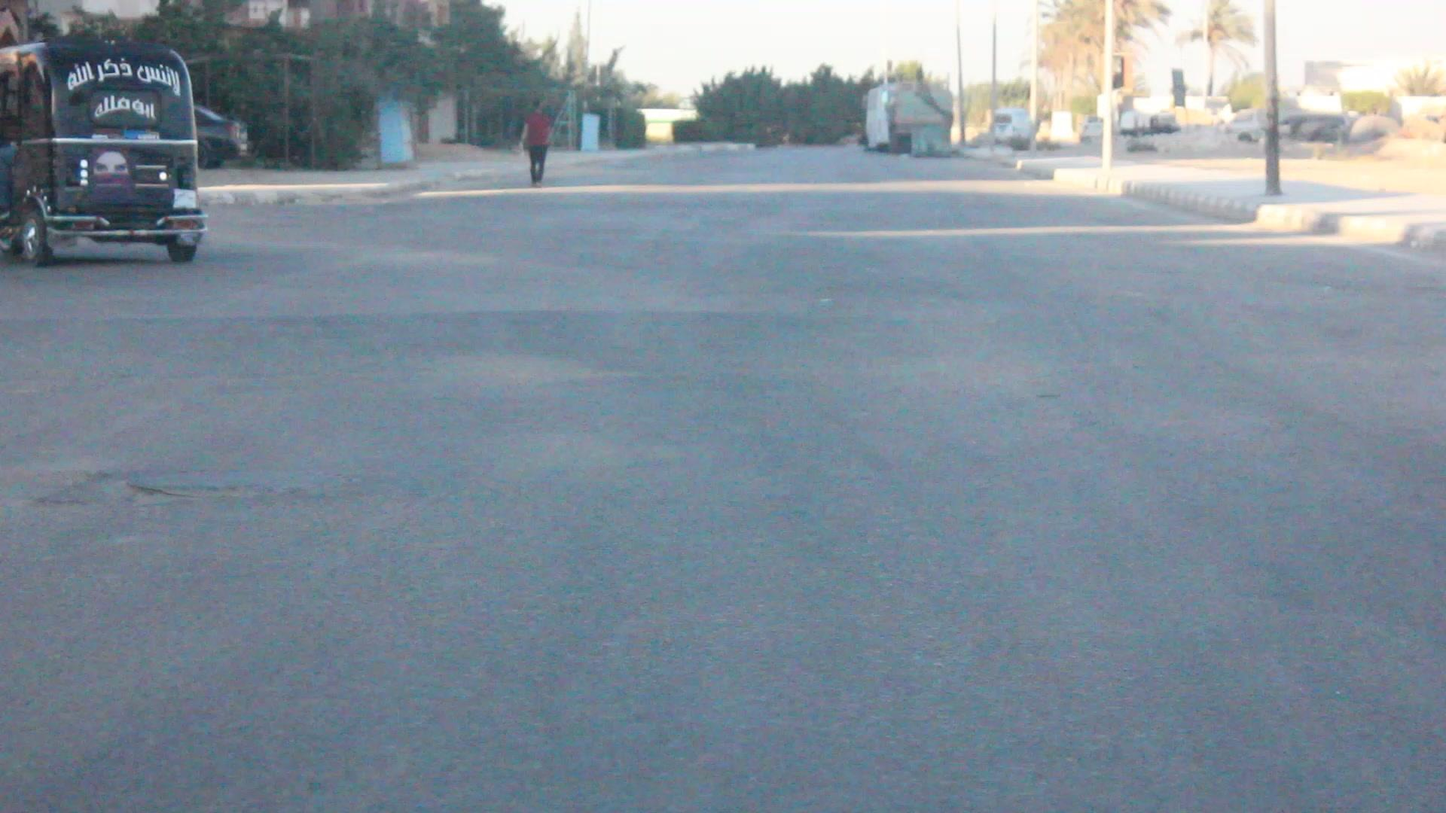Bump: (8, 297, 1446, 378)
Pothole: (56, 448, 405, 529)
